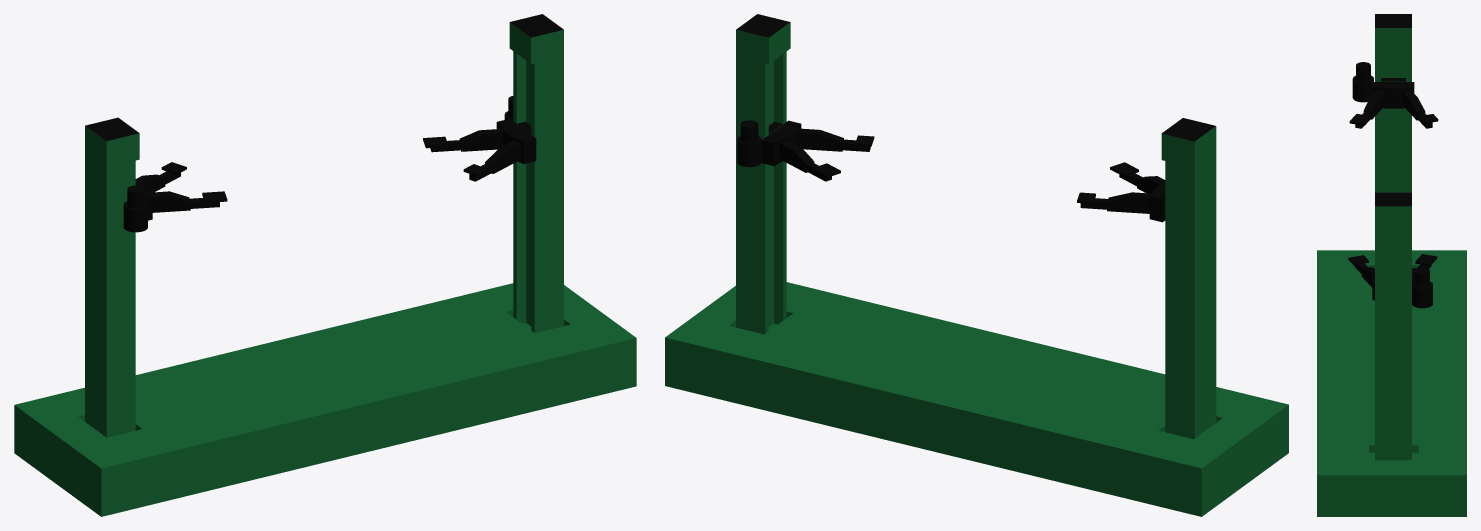
File: car_lift_main2.fbx
The picture shows the model from 3 angles, left to right: view 1: azimuth 30°, elevation 25°; view 2: azimuth 150°, elevation 25°; view 3: azimuth 270°, elevation 25°; orthographic projection. The views are drawn at different scales.
Parts seen in each view (by area): view 1: lift, Cylinder.002, Cylinder.001; view 2: lift, Cylinder.002, Cylinder.001; view 3: lift, Cylinder.001, Cylinder.002.
Part boxes in pixels (bbox=[...]): lift: bbox=[14, 14, 636, 516]; Cylinder.002: bbox=[423, 96, 536, 181]; Cylinder.001: bbox=[123, 162, 227, 232]; lift: bbox=[665, 14, 1288, 516]; Cylinder.002: bbox=[737, 120, 874, 181]; Cylinder.001: bbox=[1077, 162, 1165, 222]; lift: bbox=[1317, 14, 1466, 516]; Cylinder.001: bbox=[1349, 62, 1438, 128]; Cylinder.002: bbox=[1348, 254, 1437, 308].
Size of the model in its own units: 1159 by 707 by 326.
